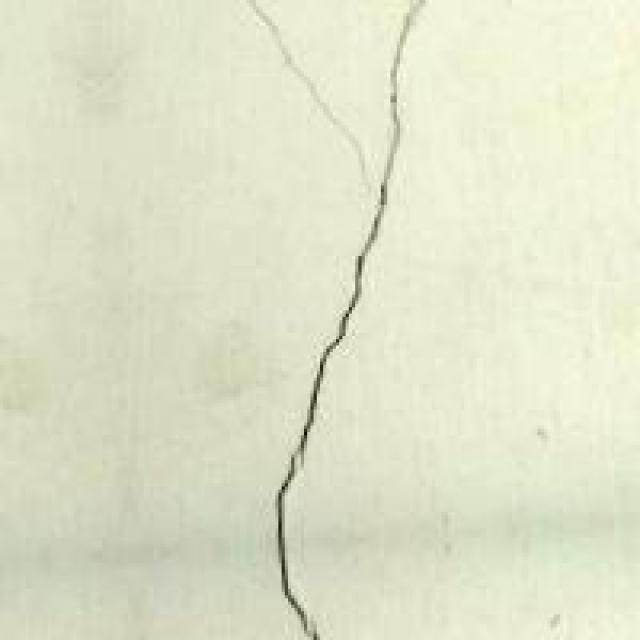Crack: (218, 0, 422, 637)
